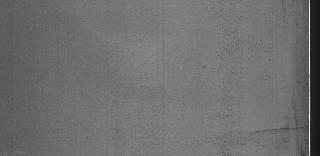scratches: (256, 124, 308, 136)
